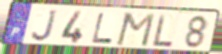4: (60, 10, 85, 45)
8: (184, 15, 210, 50)
J: (30, 9, 59, 44)
L: (152, 13, 175, 48), (90, 12, 114, 45)
M: (114, 12, 157, 48)
